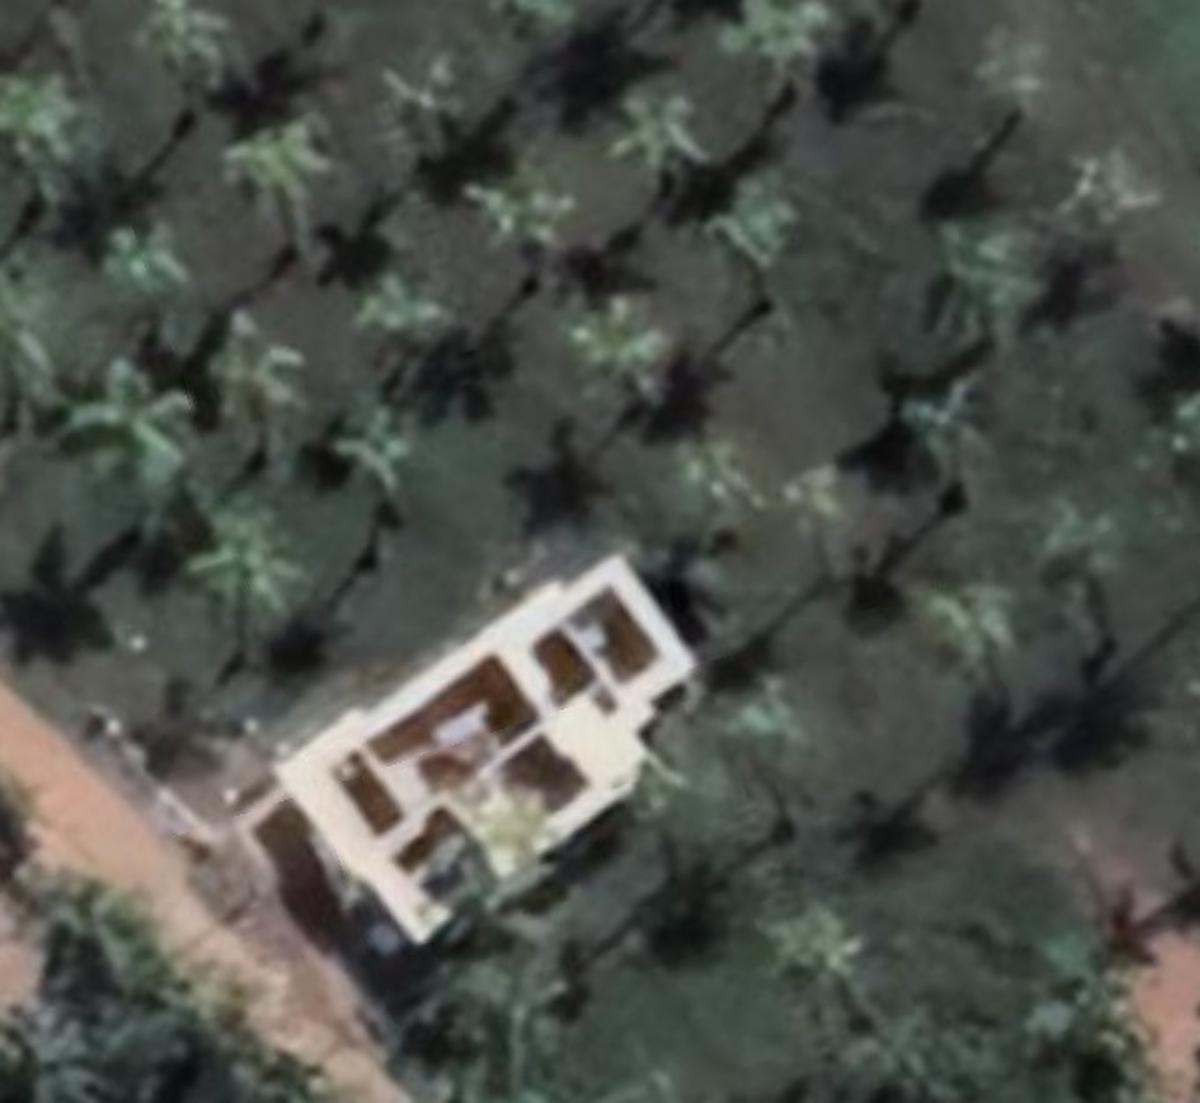coconut: (197, 121, 354, 248), (577, 278, 708, 422), (706, 3, 866, 118), (354, 280, 502, 401), (905, 219, 1041, 345), (359, 44, 500, 158), (1, 74, 111, 220), (68, 364, 185, 491), (177, 496, 303, 608), (206, 325, 329, 440), (105, 214, 222, 334), (466, 173, 585, 288), (949, 31, 1067, 137), (711, 181, 828, 285), (604, 98, 733, 192), (1071, 142, 1170, 260), (761, 903, 884, 997), (126, 1, 255, 91), (919, 577, 1030, 680), (1023, 495, 1125, 606), (688, 440, 787, 544), (325, 414, 429, 510), (774, 458, 870, 555), (710, 681, 821, 761)
